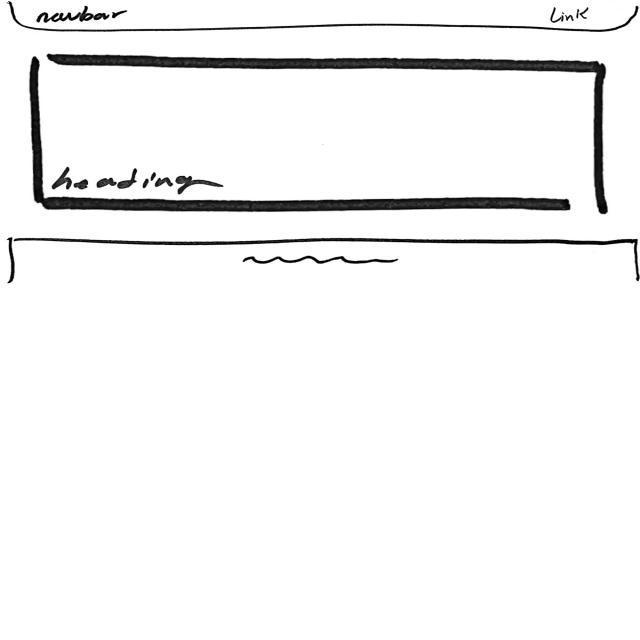container: (31, 55, 608, 215), (4, 1, 640, 32)
label: (50, 170, 223, 193), (35, 6, 128, 25), (551, 6, 593, 26)
text: (240, 253, 400, 272)
